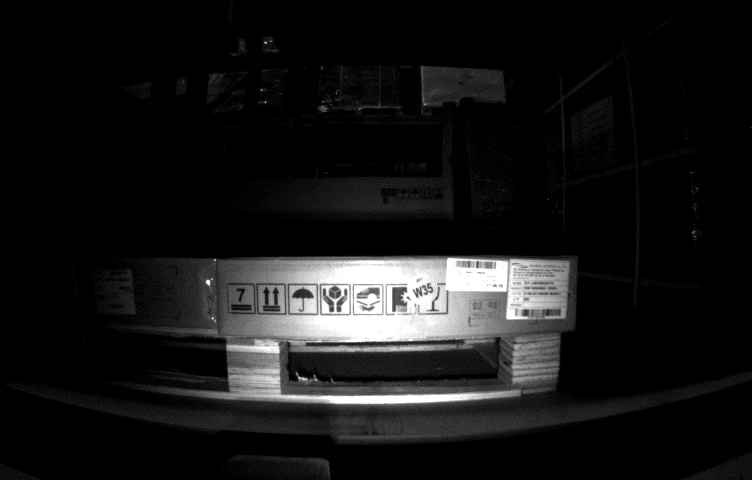True Barcode: (91, 266, 136, 315)
